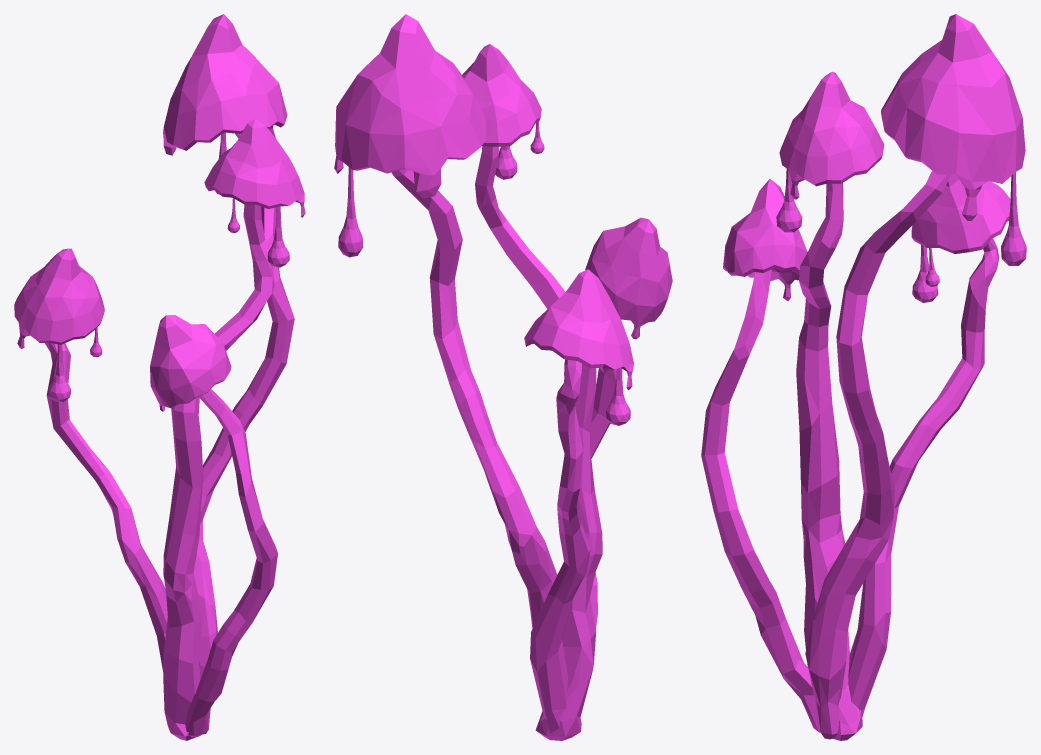
File: SM_Mushroom_Drip_Giant_Cluster_A_Colour_Fantasy.fbx
3 views of the same model, side by side, from view 1: azimuth 30°, elevation 25°; view 2: azimuth 150°, elevation 25°; view 3: azimuth 270°, elevation 25° (orthographic). The views are drawn at different scales.
Visible parts, largest first — view 1: SM_Mushroom_Drip_Giant_Cluster_A_Colour_Fantasy; view 2: SM_Mushroom_Drip_Giant_Cluster_A_Colour_Fantasy; view 3: SM_Mushroom_Drip_Giant_Cluster_A_Colour_Fantasy.
Boxes of the visible parts, x1,y1,x2,y2 form: SM_Mushroom_Drip_Giant_Cluster_A_Colour_Fantasy: (14,14,305,740); SM_Mushroom_Drip_Giant_Cluster_A_Colour_Fantasy: (334,14,672,740); SM_Mushroom_Drip_Giant_Cluster_A_Colour_Fantasy: (701,14,1026,740).
Size of the model in its own units: 3.67 by 8.92 by 3.42.
